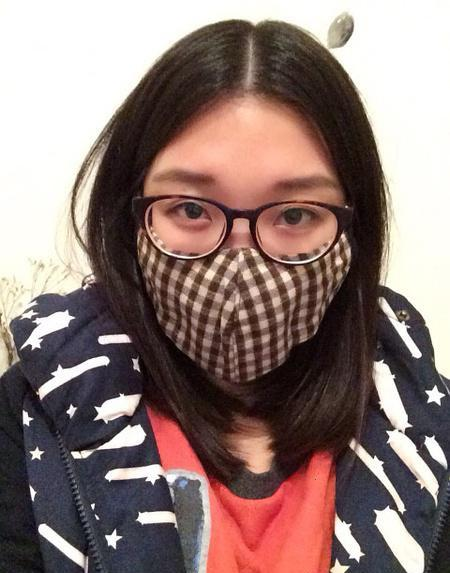OK: (124, 160, 345, 381)
